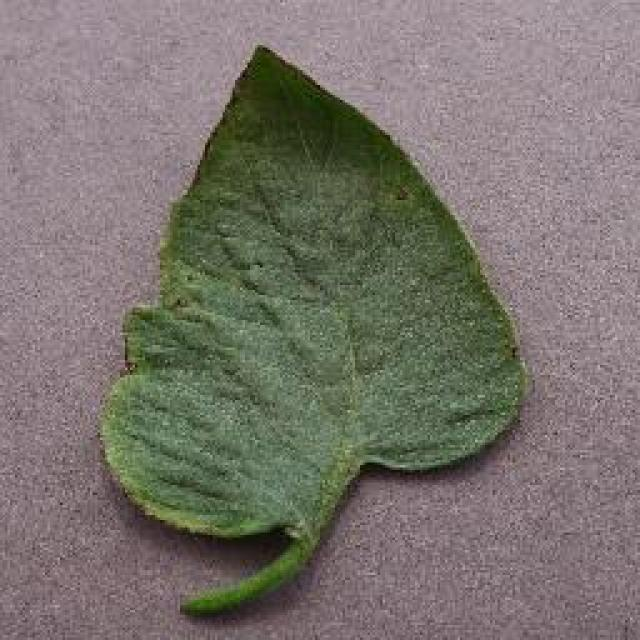Tom_Target_Spot: (375, 165, 425, 216)
